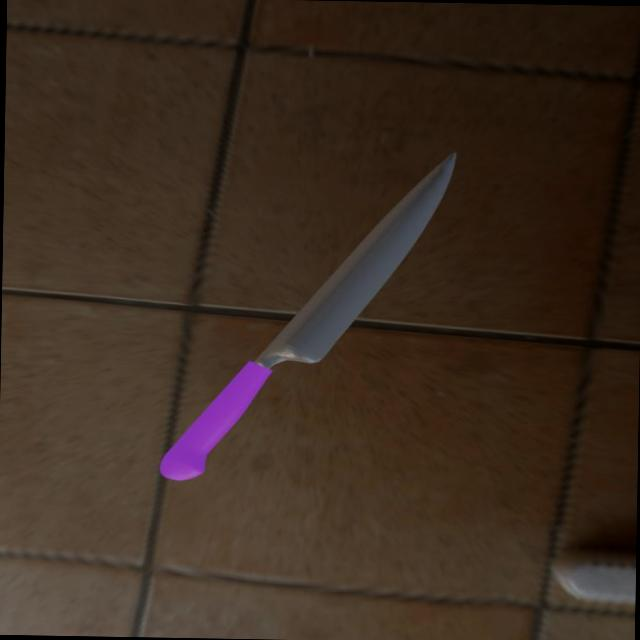knife: (157, 359, 270, 483)
